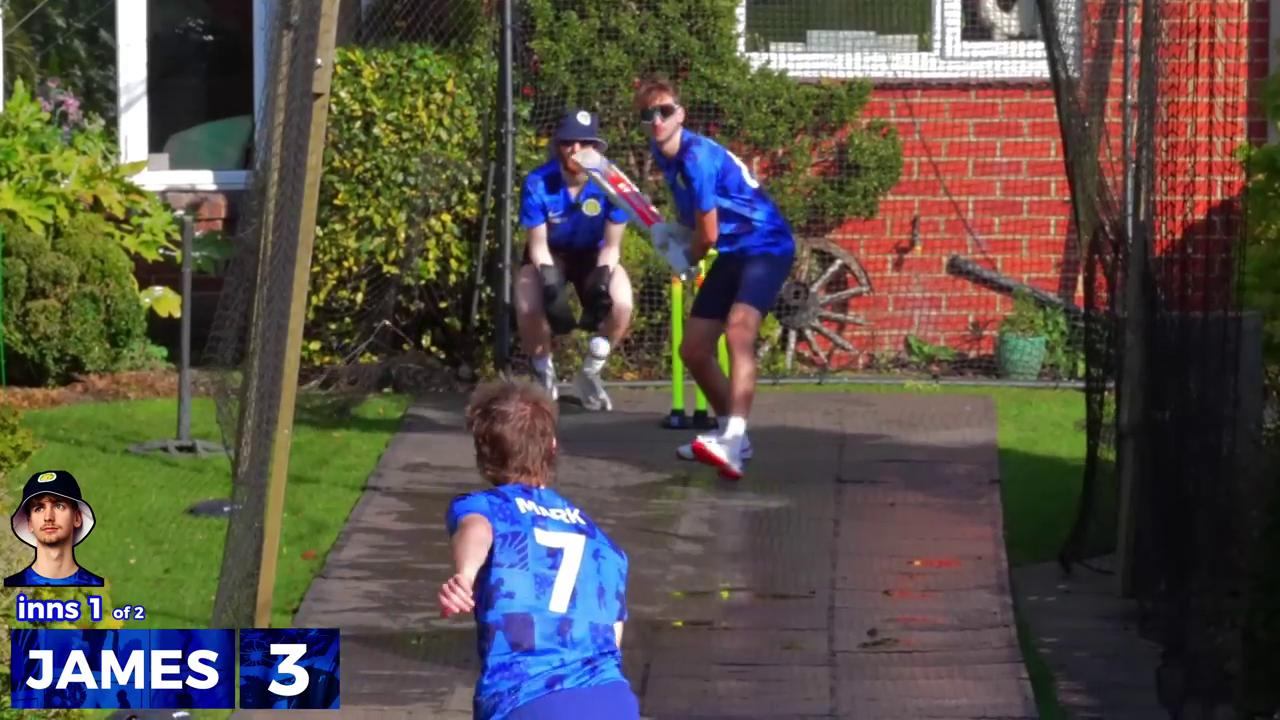ball: (576, 323, 622, 366)
